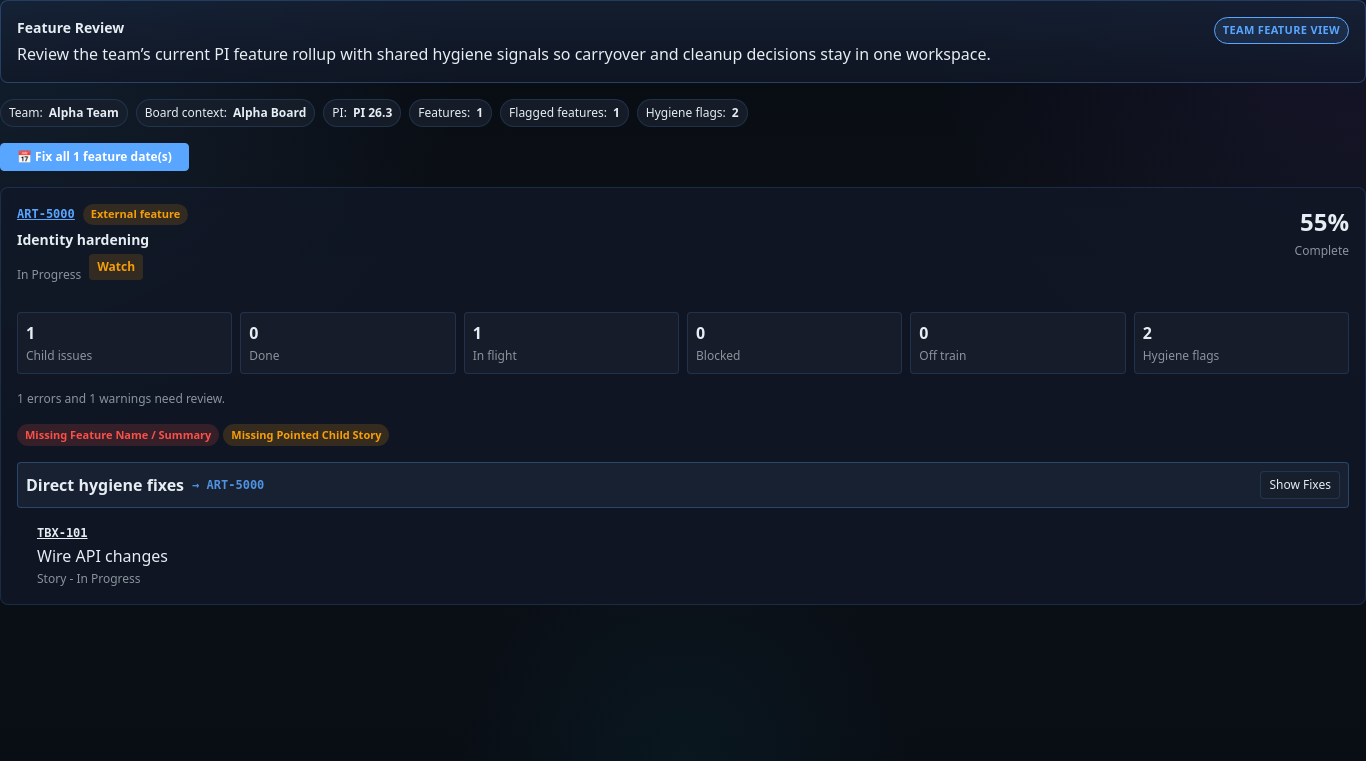
Test case: FeatureReviewTab › renders feature rollup cards, Jira links, and direct fix controls for the matched ART team
The image size is (1366, 761).
Expected: the heading "Feature Review" is shown, [17,18,124,37]
Expected: the text "Missing Feature Name / Summary" is shown, [17,424,219,446]
Step 1. Click the button "Show Fixes" → (1300, 485), box [1260,471,1340,499]
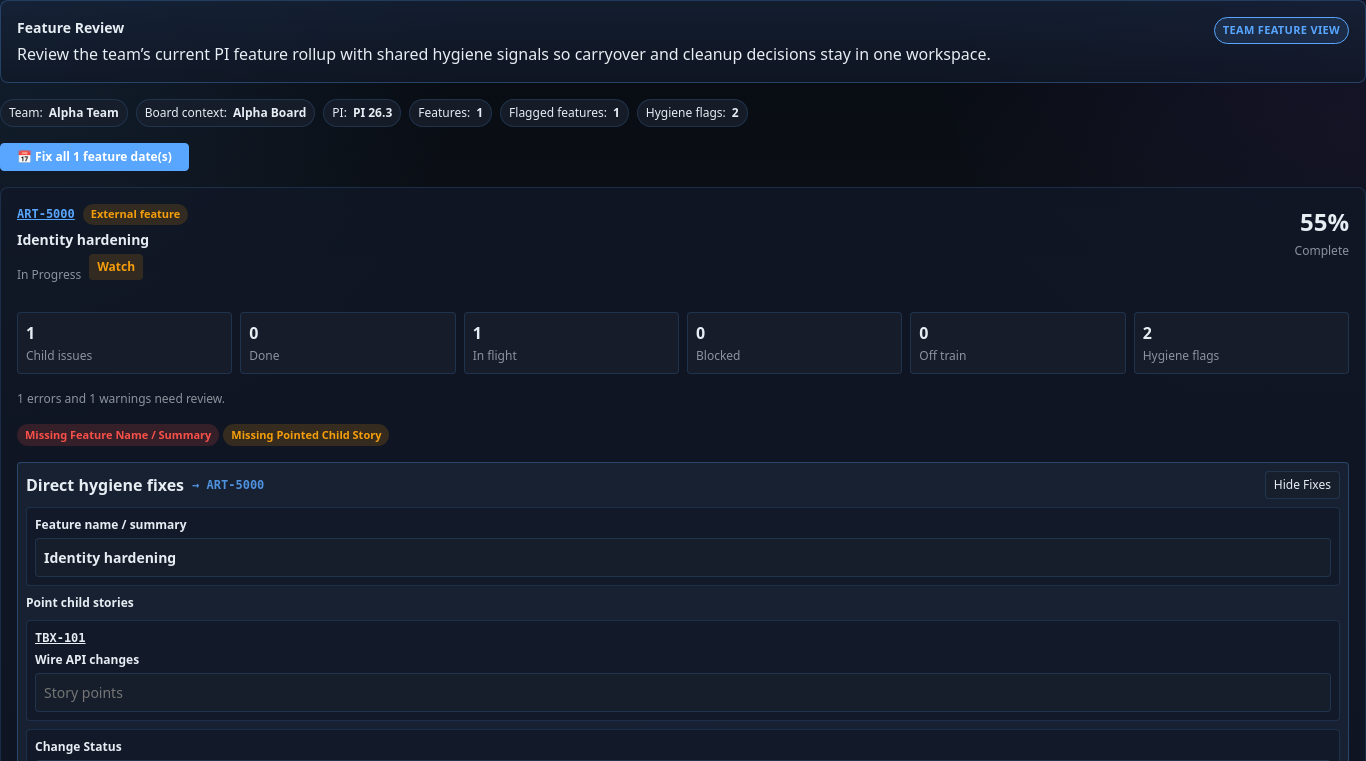
Expected: the text "Direct hygiene fixes" is shown, [26,473,184,497]
Now the text "Point child stories" is shown, box [26,594,134,611]
Now the number of links "TBX-101" is 2
